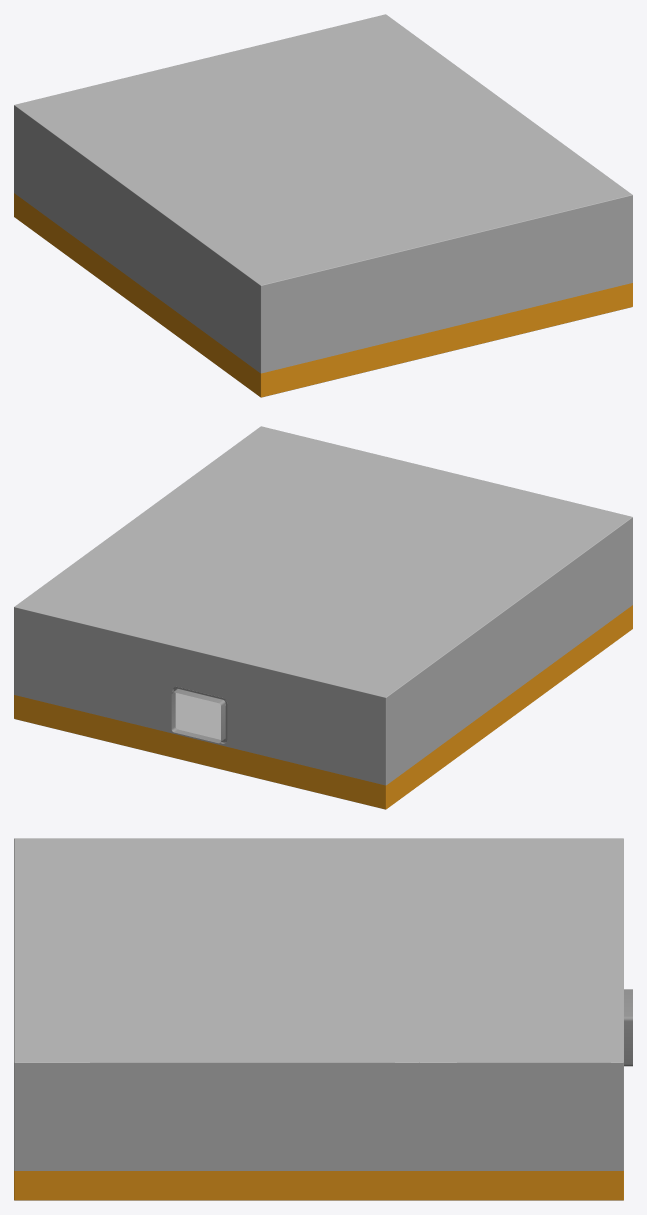
The model's file is Teleporter Room.fbx.
3 renders of one model, top to bottom at view 1: azimuth 30°, elevation 25°; view 2: azimuth 150°, elevation 25°; view 3: azimuth 270°, elevation 25°, orthographic. The views are drawn at different scales.
Visible parts, largest first — view 1: Plane.004; view 2: Plane.004; view 3: Plane.004.
Part boxes in pixels (bbox=[...]): Plane.004: bbox=[14, 14, 632, 397]; Plane.004: bbox=[14, 426, 632, 809]; Plane.004: bbox=[14, 838, 632, 1200].
Size of the model in its own units: 1594 by 471 by 1859.
